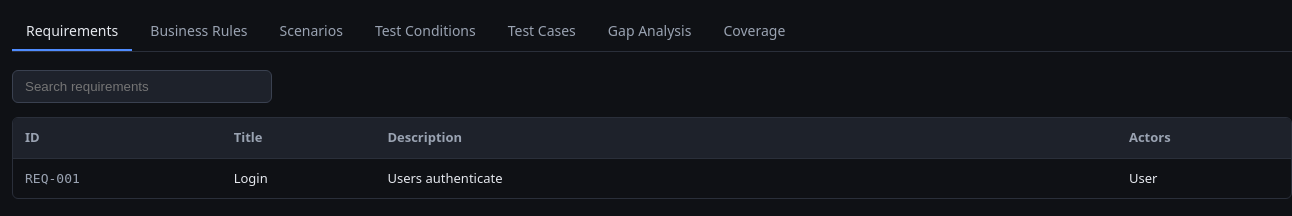
Test: Results › shows an empty state when a category has no rows
Click the tab "Gap Analysis".
click(650, 32)  # box [594,12,705,51]
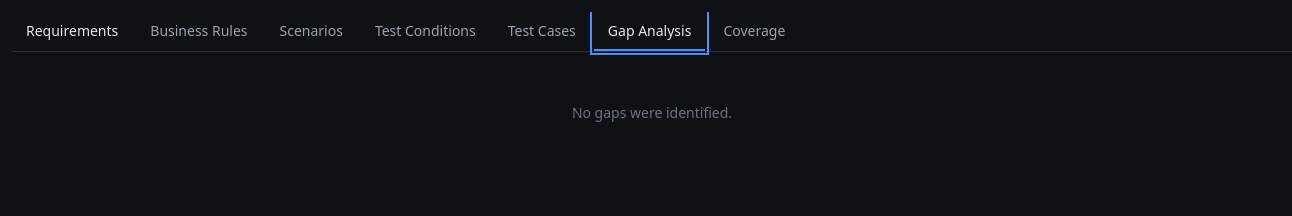
expect the text "No gaps were identified." is shown: met, box [572,103,732,122]
